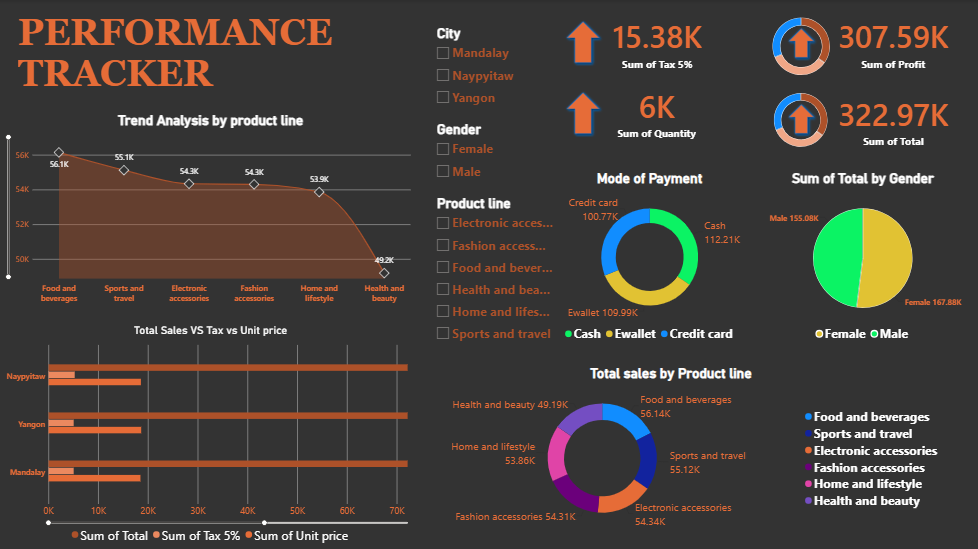

This screenshot's page, from the dashboard's own definition file:
{"tool":"powerbi","page":{"name":"Page 1","canvas":[2560,1440],"ordinal":0},"visuals":[{"type":"cardVisual","fields":{"Data":["Sum(D6.Total)"]},"box":[2137.6,212.9,405.3,207.9],"z":0},{"type":"cardVisual","fields":{"Data":["Sum(D6.Tax 5%)"]},"box":[1527.1,12.9,389.5,200],"z":1000},{"type":"cardVisual","fields":{"Data":["Sum(D6.Quantity)"]},"box":[1526.6,190.5,386.8,207.9],"z":2000},{"type":"cardVisual","fields":{"Data":["Sum(D6.Profit)"]},"box":[2137.6,12.9,405.3,200],"z":3000},{"type":"donutChart","title":"Mode of Payment","fields":{"Category":["D6.Payment"],"Y":["Sum(D6.Total)"]},"box":[1448.4,432.3,506.5,480.6],"z":4000},{"type":"pieChart","fields":{"Category":["D6.Gender"],"Y":["Sum(D6.Total)"]},"box":[1954.8,432.3,606.5,480.6],"z":5000},{"type":"donutChart","title":"Total sales by Product line","fields":{"Category":["D6.Product line"],"Y":["Sum(D6.Total)"]},"box":[1035.5,941.9,1445.2,454.8],"z":6000},{"type":"clusteredBarChart","title":"Total Sales VS Tax vs Unit price","fields":{"Category":["D6.City"],"Y":["Sum(D6.Total)","Sum(D6.Tax 5%)","Sum(D6.Unit price)"]},"box":[0,832.3,1103.2,606.5],"z":7000},{"type":"lineChart","title":"Trend Analysis by product line","fields":{"Category":["D6.Product line"],"Y":["Sum(D6.Total)"]},"box":[0,280.6,1103.2,532.3],"z":8000},{"type":"shape","box":[1474.2,48.4,105.3,126.3],"z":9000},{"type":"shape","box":[1474.2,232.3,105.3,126.3],"z":10000},{"type":"donutChart","fields":{"Category":["D6.Payment"],"Y":["Sum(D6.Total)"]},"box":[1816.4,12.9,561.2,218.4],"z":11000},{"type":"donutChart","fields":{"Category":["D6.Payment"],"Y":["Sum(D6.Total)"]},"box":[1830.7,212.9,532.7,206.1],"z":12000},{"type":"shape","box":[2055.2,66,85.7,93.9],"z":13000},{"type":"shape","box":[2055.2,263.9,85.7,93.9],"z":14000},{"type":"textbox","box":[48.4,29,874.2,267.7],"z":15000},{"type":"slicer","fields":{"Values":["D6.City"]},"box":[1135.5,64.5,290.3,251.6],"z":16000},{"type":"slicer","fields":{"Values":["D6.Gender"]},"box":[1135.5,316.1,181,252],"z":17000},{"type":"slicer","fields":{"Values":["D6.Product line"]},"box":[1135.5,509.7,312.9,432.3],"z":18000}]}

Visuals, with their boxes in screenshot pixels (x1, y1, x2, y2), scaled from the page's 2560x1440 canvas onto the 978x549 screenshot:
cardVisual - Sum(D6.Total): (left=817, top=81, right=971, bottom=160)
cardVisual - Sum(D6.Tax 5%): (left=583, top=5, right=732, bottom=81)
cardVisual - Sum(D6.Quantity): (left=583, top=73, right=731, bottom=152)
cardVisual - Sum(D6.Profit): (left=817, top=5, right=971, bottom=81)
"Mode of Payment" donutChart: (left=553, top=165, right=747, bottom=348)
pieChart - D6.Gender x Sum(D6.Total): (left=747, top=165, right=977, bottom=348)
"Total sales by Product line" donutChart: (left=396, top=359, right=948, bottom=532)
"Total Sales VS Tax vs Unit price" clusteredBarChart: (left=0, top=317, right=421, bottom=548)
"Trend Analysis by product line" lineChart: (left=0, top=107, right=421, bottom=310)
shape: (left=563, top=18, right=603, bottom=67)
shape: (left=563, top=89, right=603, bottom=137)
donutChart - D6.Payment x Sum(D6.Total): (left=694, top=5, right=908, bottom=88)
donutChart - D6.Payment x Sum(D6.Total): (left=699, top=81, right=903, bottom=160)
shape: (left=785, top=25, right=818, bottom=61)
shape: (left=785, top=101, right=818, bottom=136)
textbox: (left=18, top=11, right=352, bottom=113)
slicer - D6.City: (left=434, top=25, right=545, bottom=121)
slicer - D6.Gender: (left=434, top=121, right=503, bottom=217)
slicer - D6.Product line: (left=434, top=194, right=553, bottom=359)
